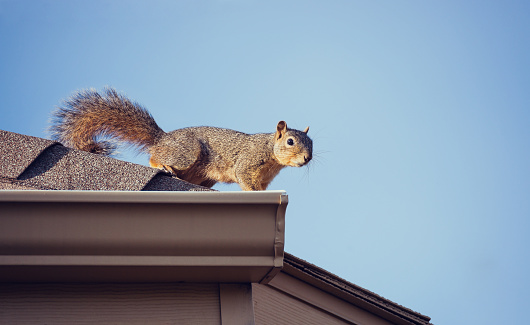squirrel: (52, 85, 316, 189)
